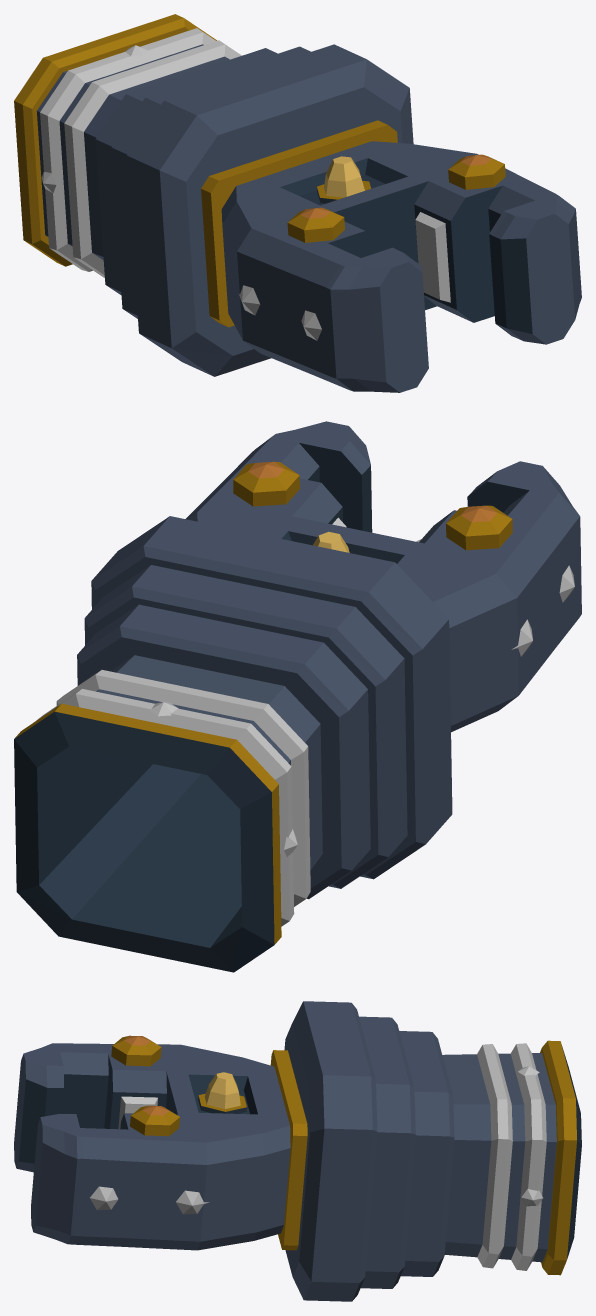
Rendered from mechanical-finger-extender-gripper-a7c16b.glb.
3 views of the same model, one above another, from view 1: azimuth 30°, elevation 25°; view 2: azimuth 150°, elevation 25°; view 3: azimuth 270°, elevation 25° (orthographic). The views are drawn at different scales.
Parts seen in each view (by area): view 1: extender-gripper; view 2: extender-gripper; view 3: extender-gripper.
Boxes of the visible parts, <box> form: extender-gripper: <box>14,14,581,392</box>; extender-gripper: <box>14,421,581,972</box>; extender-gripper: <box>14,1001,581,1301</box>.
Bounding box in the file's own units: 0.0269 × 0.0223 × 0.0501.
